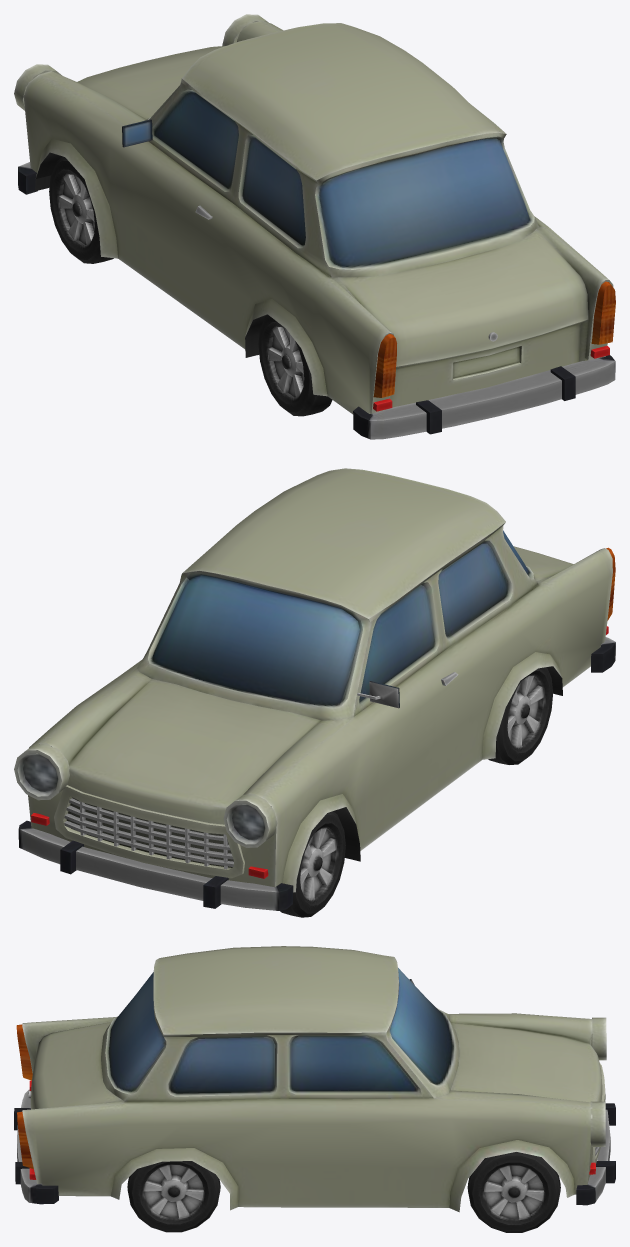
File: trabant.glb
3 views of the same model, one above another, from view 1: azimuth 30°, elevation 25°; view 2: azimuth 150°, elevation 25°; view 3: azimuth 270°, elevation 25° (orthographic). The views are drawn at different scales.
Visible parts, largest first — view 1: m; view 2: m; view 3: m.
Part boxes in pixels (<box>): m: <box>14,14,615,439</box>; m: <box>14,468,615,917</box>; m: <box>14,946,615,1232</box>.
Bounding box in the file's own units: 2.08 × 1.9 × 4.86.
1 material, 1 textured.
